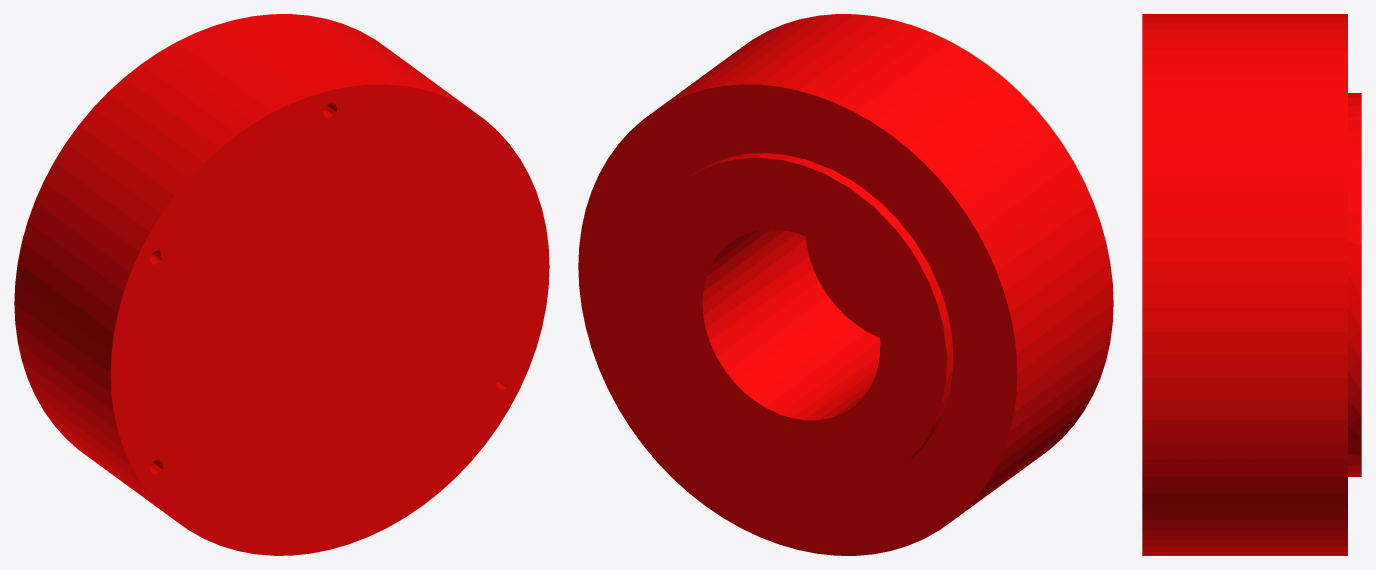
File: right_arm_1_x6_2_outer_1.glb
3 renders of one model, left to right at view 1: azimuth 30°, elevation 25°; view 2: azimuth 150°, elevation 25°; view 3: azimuth 270°, elevation 25°, orthographic. The views are drawn at different scales.
Parts seen in each view (by area): view 1: right_arm_1_x6_2_outer_1.obj; view 2: right_arm_1_x6_2_outer_1.obj; view 3: right_arm_1_x6_2_outer_1.obj.
Boxes of the visible parts, left/top/right/bottom form: right_arm_1_x6_2_outer_1.obj: left=14, top=14, right=549, bottom=555; right_arm_1_x6_2_outer_1.obj: left=578, top=14, right=1113, bottom=555; right_arm_1_x6_2_outer_1.obj: left=1142, top=14, right=1361, bottom=555.
Size of the model in its own units: 0.079 by 0.079 by 0.032.
